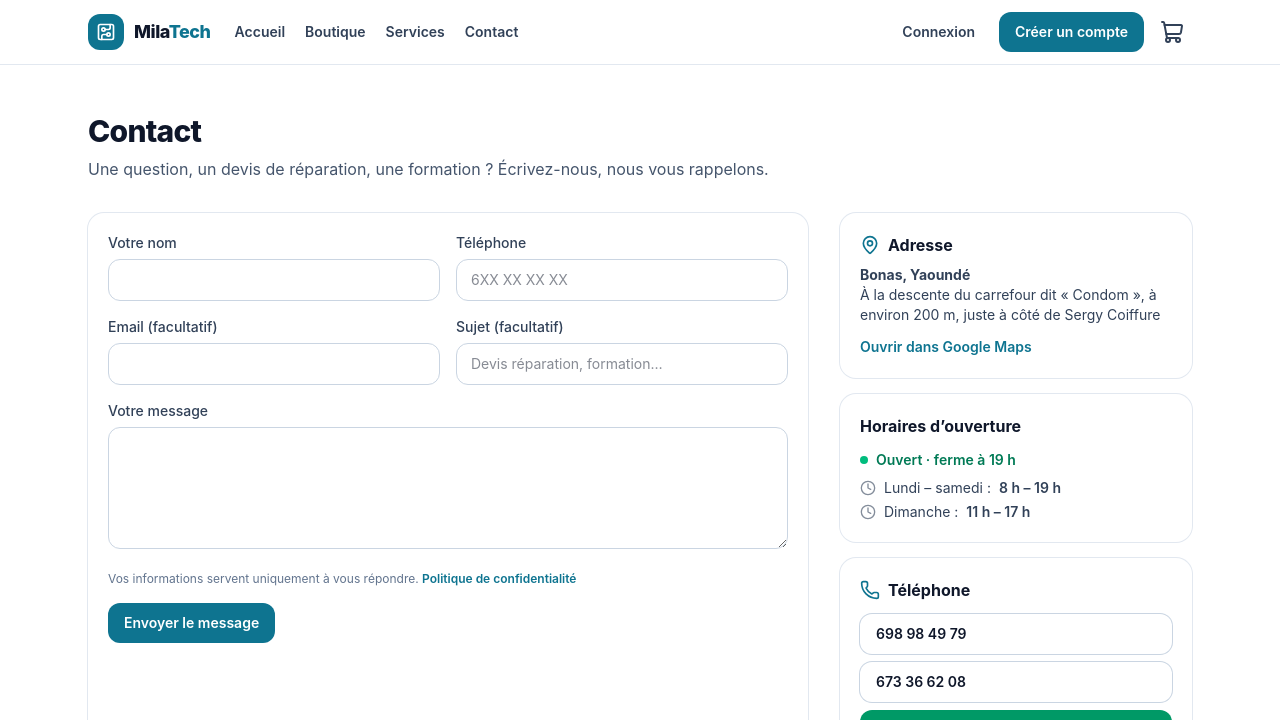
Test: Site public › envoie un message de contact
Type "Jean Fotso" into the field labelled "Votre nom" at (274, 280), box x1=108 y1=259 x2=440 y2=301
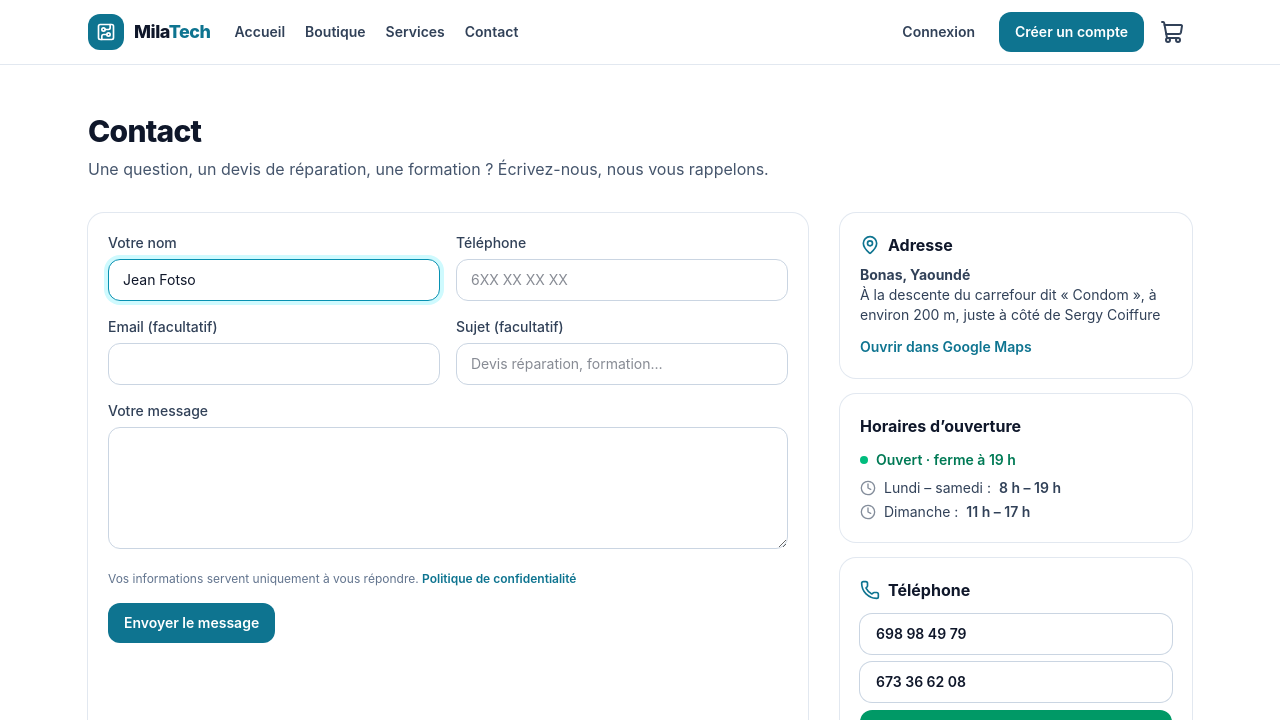
Type "699001122" into the field labelled "Téléphone" at (622, 280), box x1=456 y1=259 x2=788 y2=301
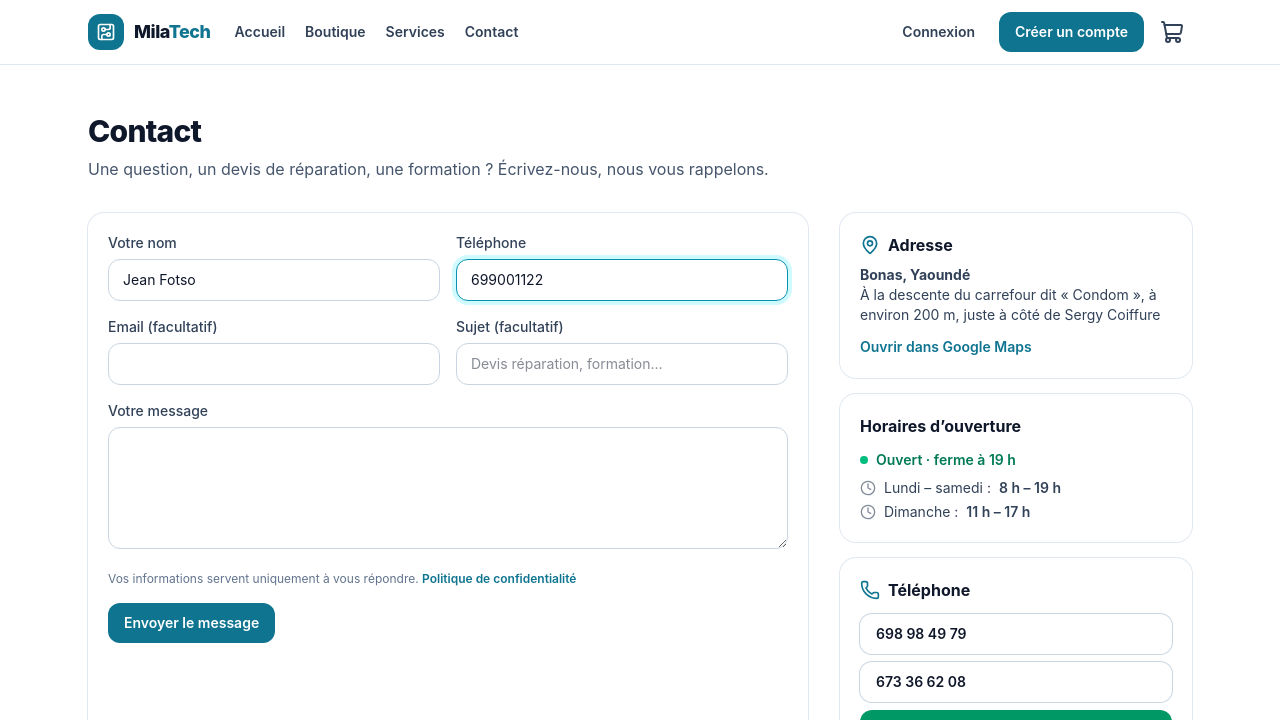
Type "Combien coûte un écran ?" into the text box labelled "Votre message" at (448, 488), box x1=108 y1=427 x2=788 y2=549
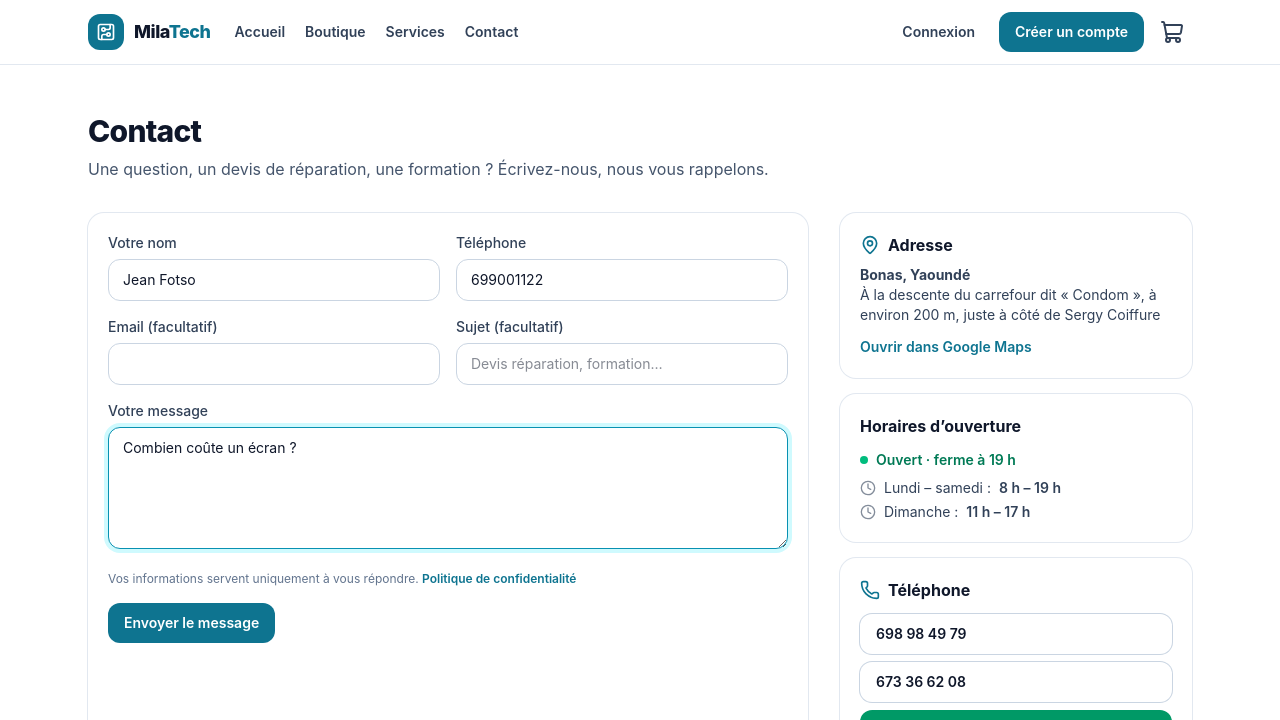
Click the button "Envoyer le message" at (192, 623), box x1=108 y1=603 x2=275 y2=643
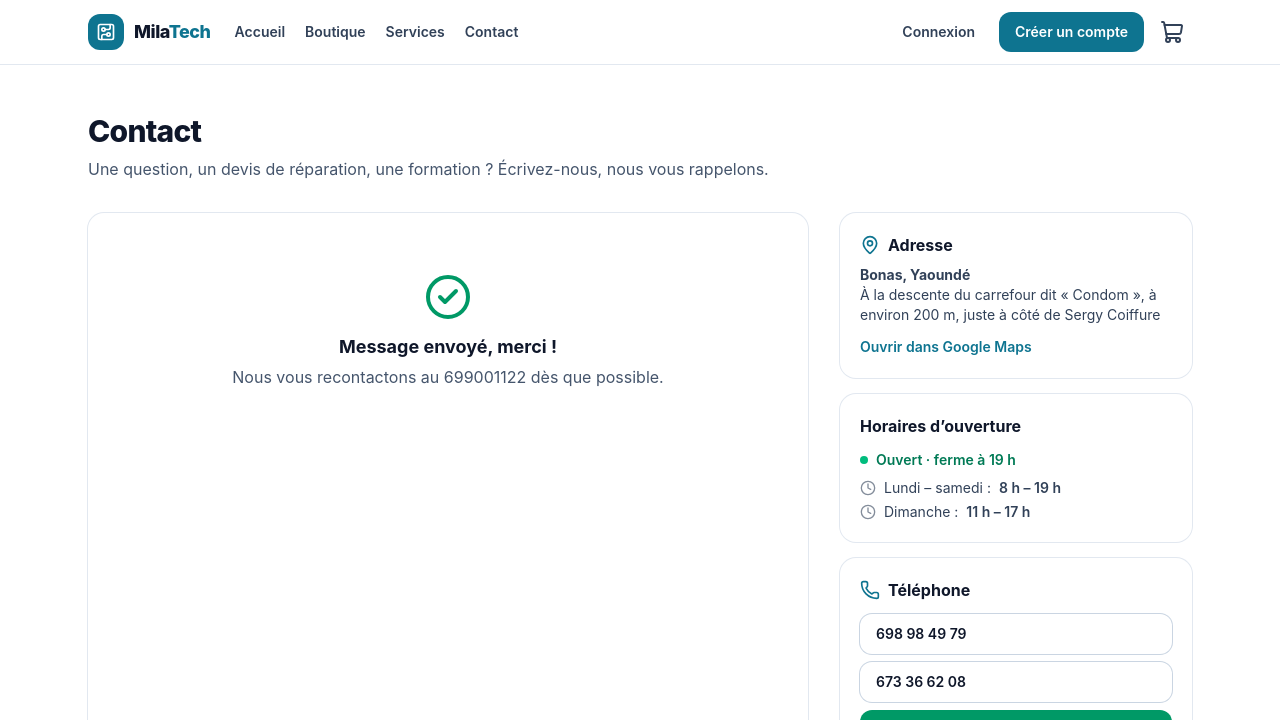
Check: the text "Message envoyé, merci !" is shown, box x1=339 y1=336 x2=557 y2=357
